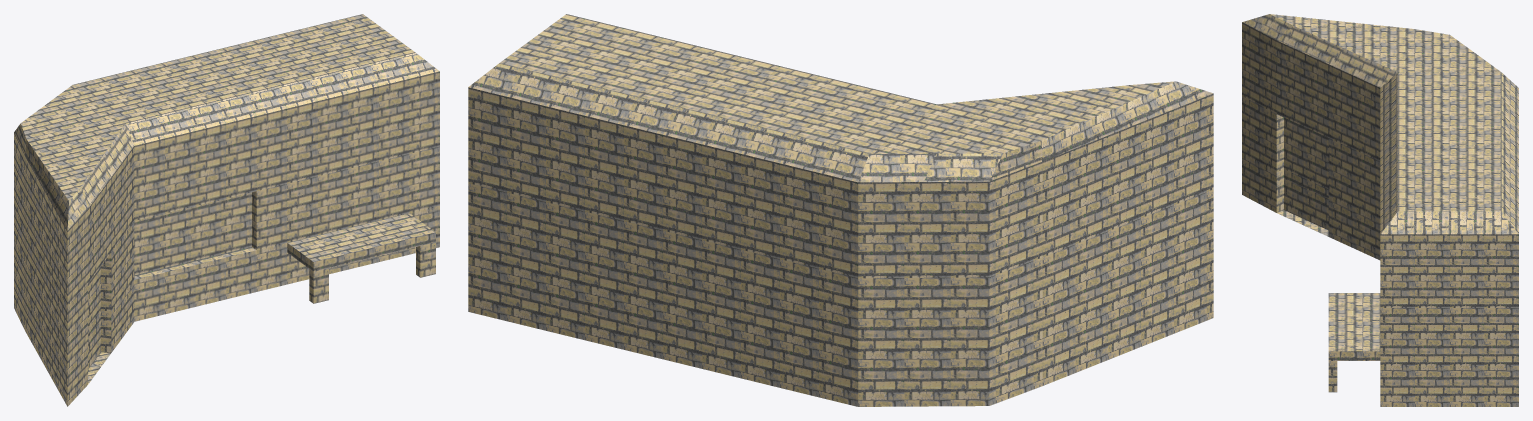
Rendered from casa curva a.obj.
3 renders of one model, left to right at view 1: azimuth 30°, elevation 25°; view 2: azimuth 150°, elevation 25°; view 3: azimuth 270°, elevation 25°, orthographic. The views are drawn at different scales.
Parts seen in each view (by area): view 1: casa curva a; view 2: casa curva a; view 3: casa curva a.
Part boxes in pixels (left/top/right/bottom): casa curva a: left=14, top=14, right=439, bottom=406; casa curva a: left=468, top=14, right=1213, bottom=406; casa curva a: left=1242, top=14, right=1518, bottom=406.
Size of the model in its own units: 14.5 by 6 by 8.
Materials: 1 (1 with a texture image).
